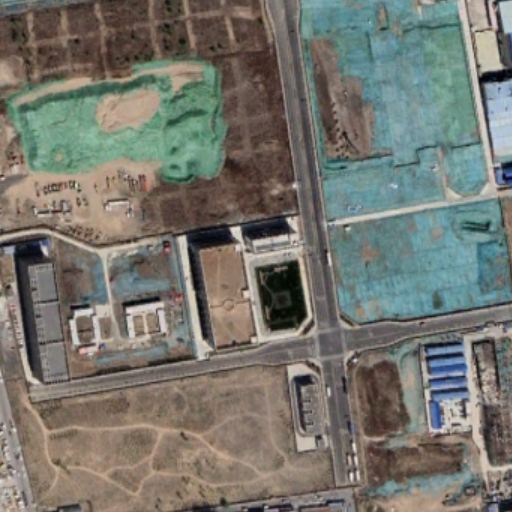cw: (300, 4, 512, 322), (7, 58, 226, 183), (345, 340, 487, 512), (51, 232, 200, 372)
